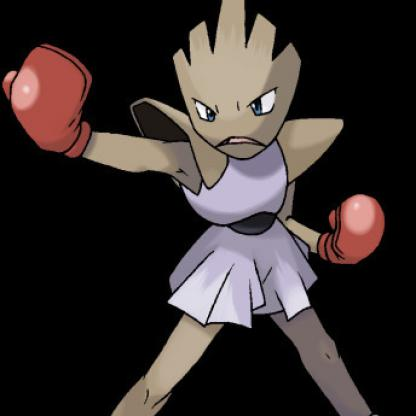Hitmonchan: (4, 1, 403, 416)
